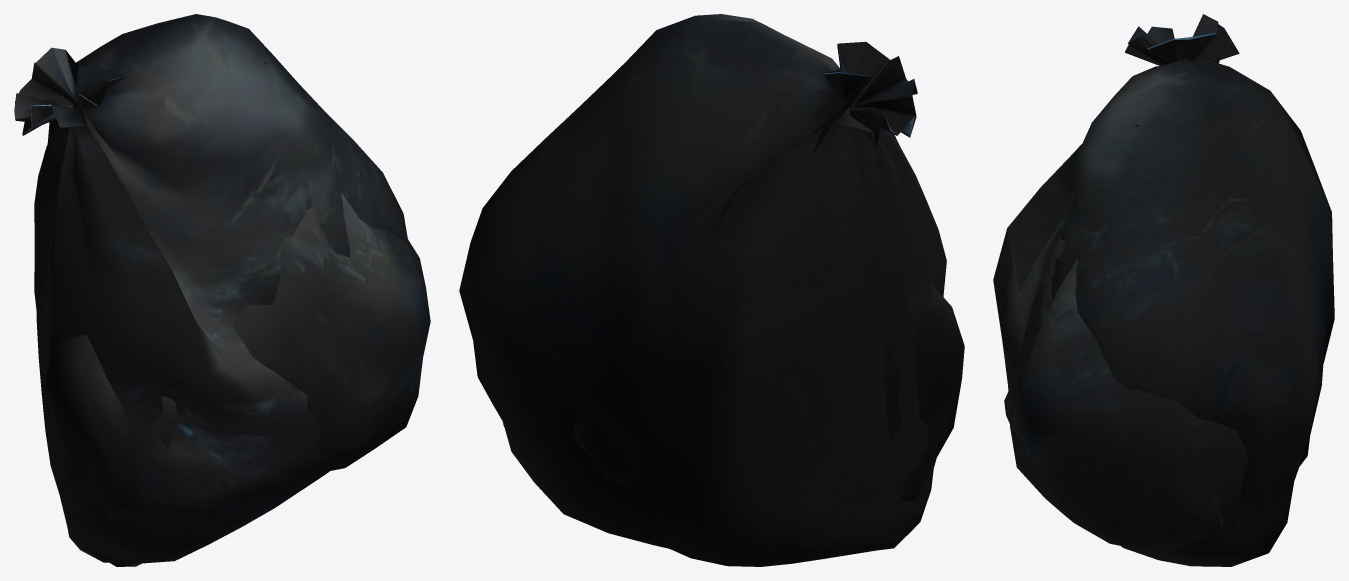
The model's file is trash_garbage bag.fbx.
3 views of the same model, side by side, from view 1: azimuth 30°, elevation 25°; view 2: azimuth 150°, elevation 25°; view 3: azimuth 270°, elevation 25° (orthographic). The views are drawn at different scales.
Visible parts, largest first — view 1: trash_garbage bag_002, trash_garbage bag_004; view 2: trash_garbage bag_002, trash_garbage bag_004; view 3: trash_garbage bag_002, trash_garbage bag_004.
Part boxes in pixels (bbox=[...]): trash_garbage bag_002: bbox=[14, 14, 408, 566]; trash_garbage bag_004: bbox=[45, 62, 430, 518]; trash_garbage bag_002: bbox=[459, 14, 946, 566]; trash_garbage bag_004: bbox=[572, 120, 964, 501]; trash_garbage bag_002: bbox=[993, 14, 1334, 566]; trash_garbage bag_004: bbox=[1010, 125, 1309, 554].
Size of the model in its own units: 39.45 by 31.83 by 47.27.
